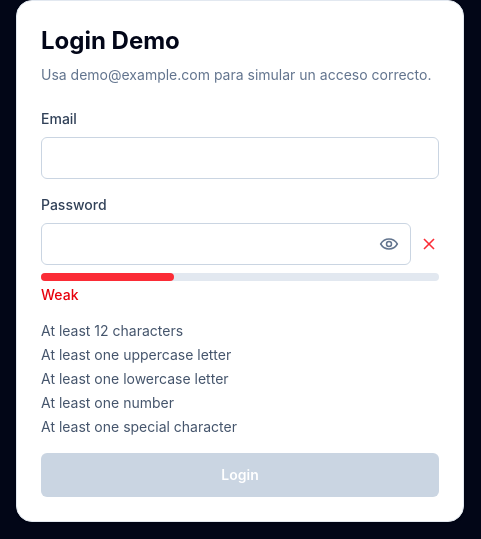
Test: LoginDemo › enables the submit button when the form is valid
The image size is (481, 539).
Type "demo@example.com" into the field labelled "Email" at (240,158), box top-left (41, 137), bottom-right (439, 179)
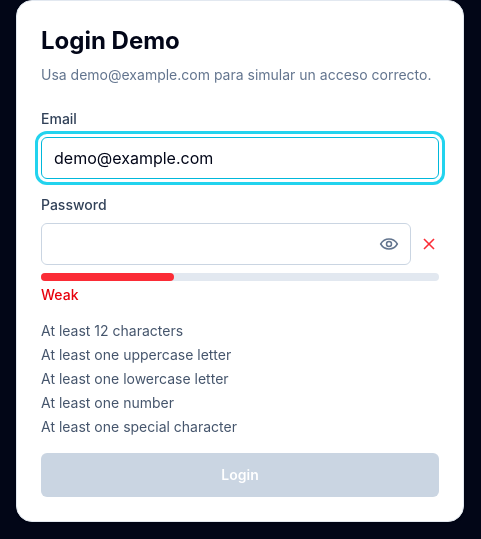
Type "ValidPass12!" into the password field named "Password" at (226,244), box top-left (41, 223), bottom-right (411, 265)
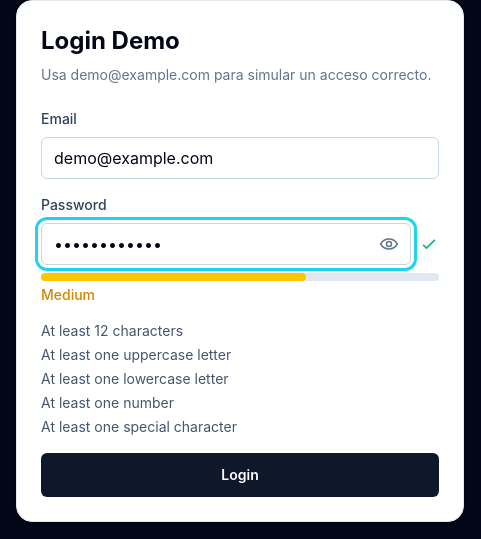
expect the button "Login" is enabled: met, box top-left (41, 453), bottom-right (439, 497)
